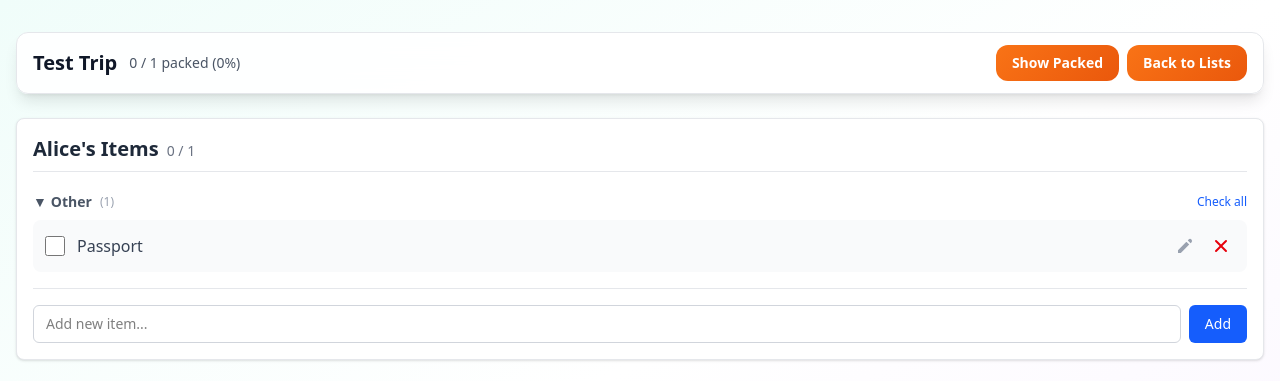
it: ViewPackingList inline item editing › pressing Enter saves renamed item and exits edit mode
Expected: the text "Passport" is shown, [77,234,143,258]
Click the button titled "Edit item" at (1185, 246), box [1171,232,1199,260]
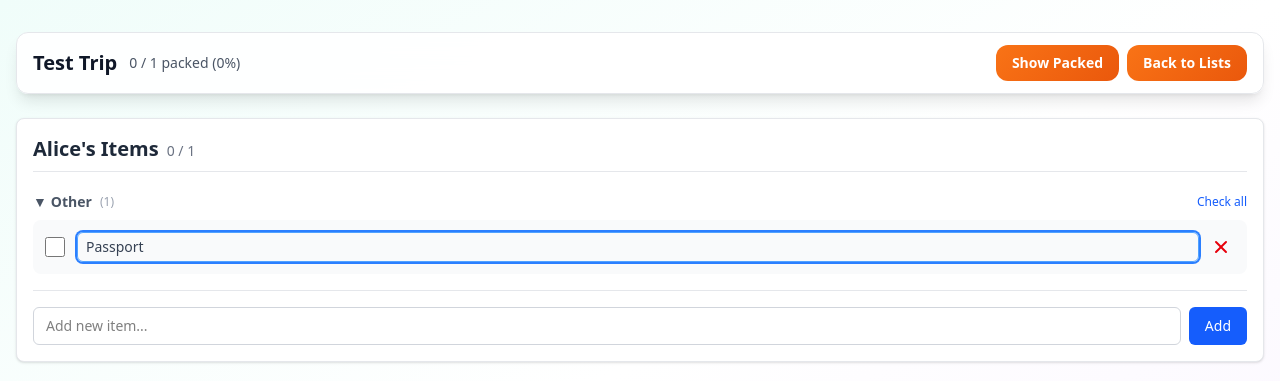
Replace the text in the field named "edit item name" with "Sunscreen SPF50" at (638, 247), box [77,232,1199,262]
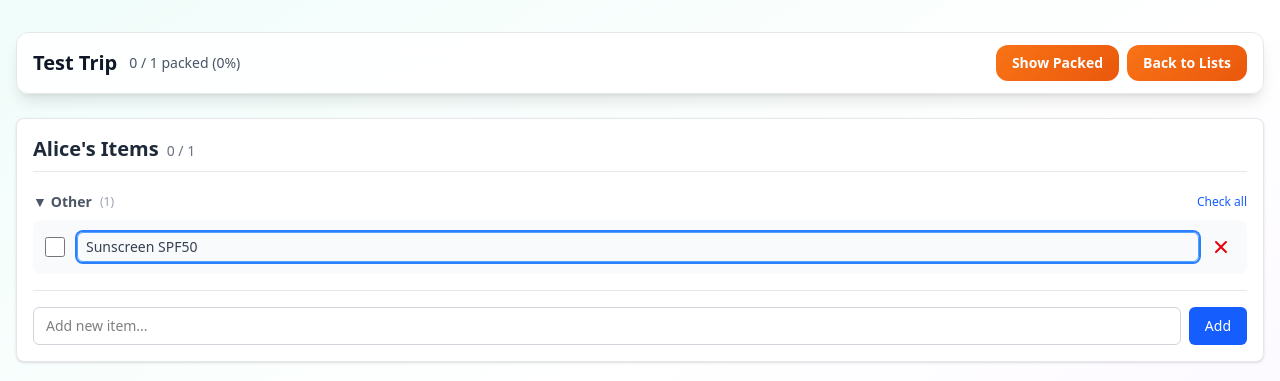
Press Enter in the field named "edit item name", box [77,232,1199,262]
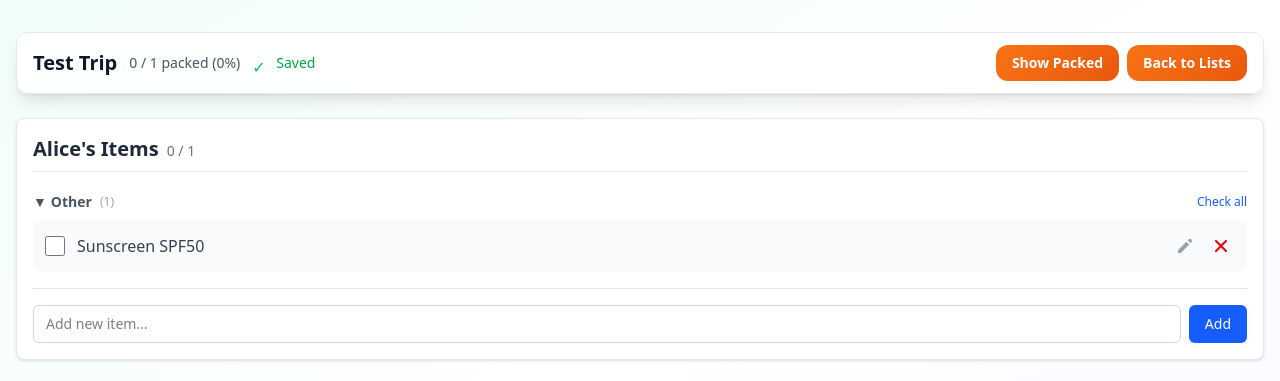
Now the text "Sunscreen SPF50" is shown, box [77,234,204,258]
